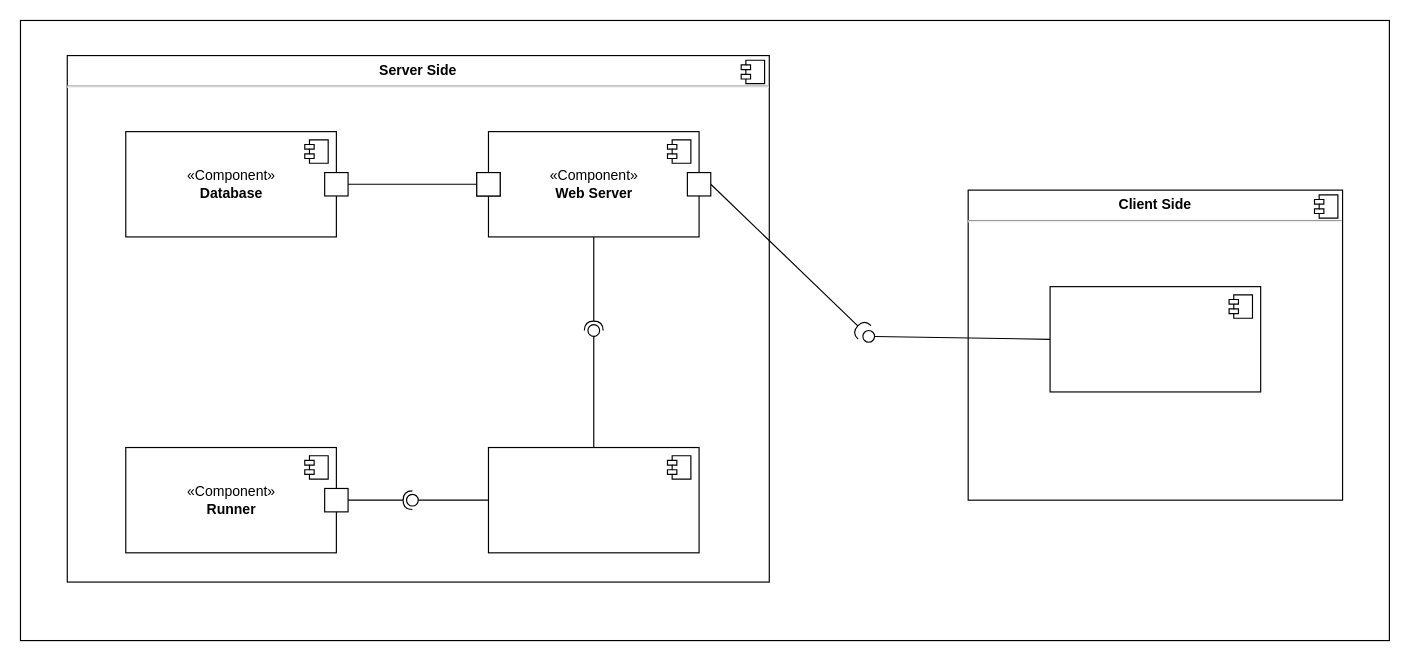
The diagram is 1410 pixels wide and 661 high, and some of its shapes have lost their labels. The box of each missing label's shape, as (x1, y1, x2, y2) in pixels:
«Component» Interface: (1049, 285, 1261, 392)
«Component» RabbitMQ: (487, 446, 699, 553)
